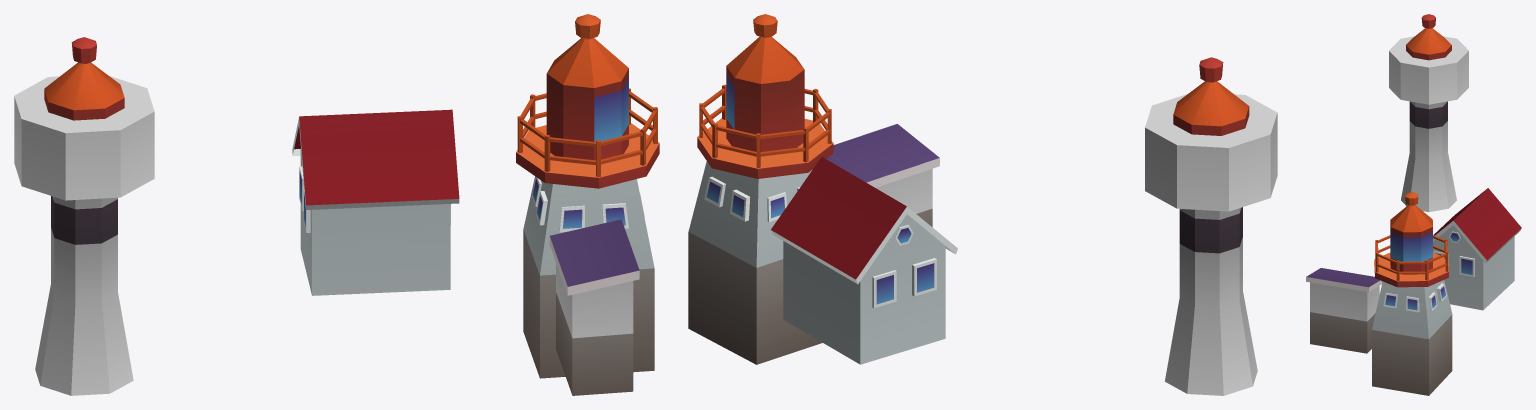
The model's file is Gloppen_Lighthouse.fbx.
The picture shows the model from 3 angles, left to right: view 1: azimuth 30°, elevation 25°; view 2: azimuth 150°, elevation 25°; view 3: azimuth 270°, elevation 25°; orthographic projection. The views are drawn at different scales.
Parts seen in each view (by area): view 1: Gloppen_Lighthouse; view 2: Gloppen_Lighthouse; view 3: Gloppen_Lighthouse.
Part boxes in pixels (x1,y1,x2,y2): Gloppen_Lighthouse: [14, 14, 659, 395]; Gloppen_Lighthouse: [688, 14, 1277, 395]; Gloppen_Lighthouse: [1306, 14, 1521, 395].
Bounding box in the file's own units: 1.03 × 0.6764 × 0.5672.
1 material, 1 textured.
